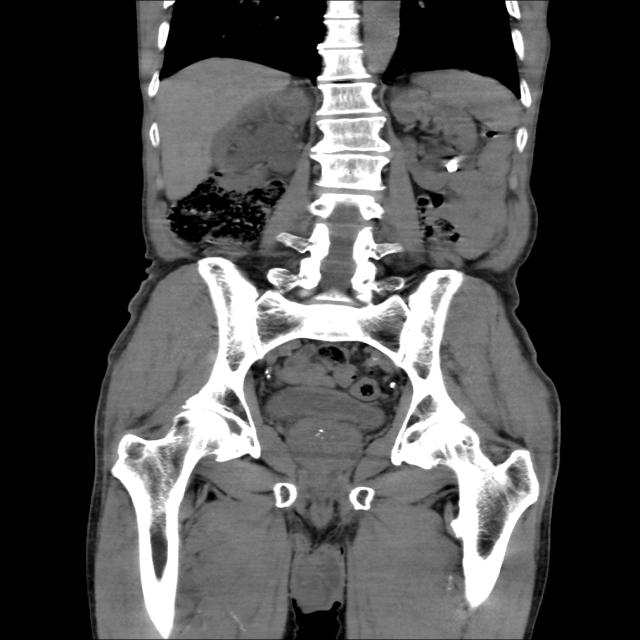kidneystone: (446, 156, 459, 172)
